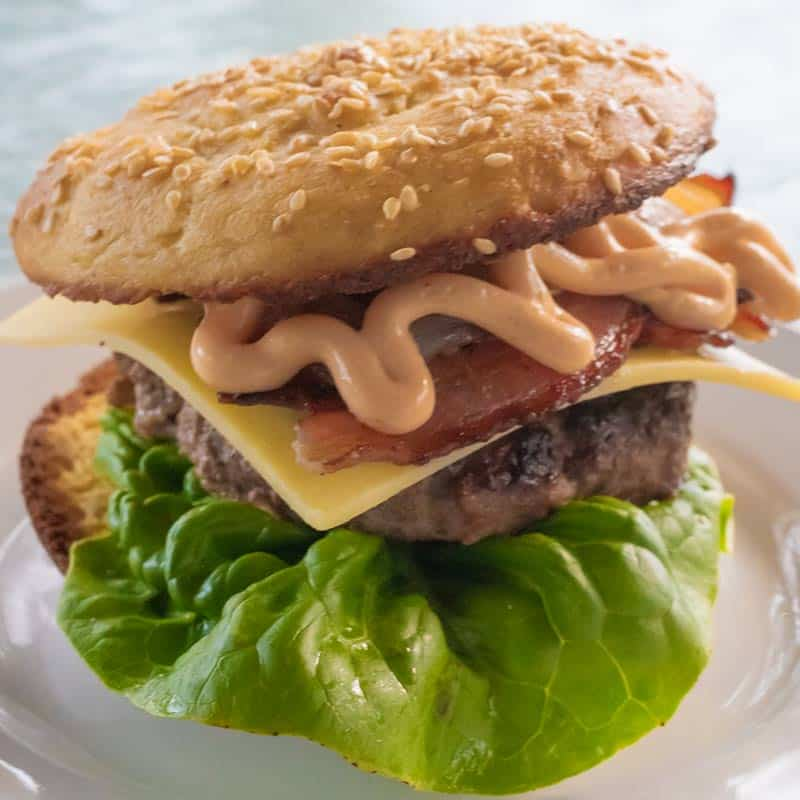hamburger_buns: (55, 15, 709, 738)
